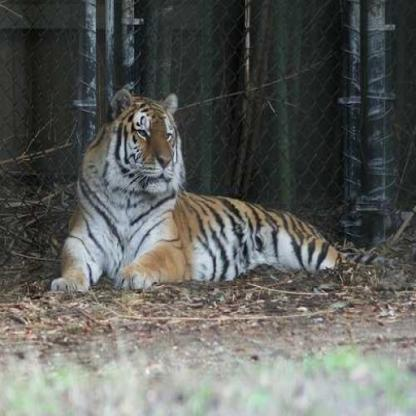Tiger: (38, 84, 350, 302)
